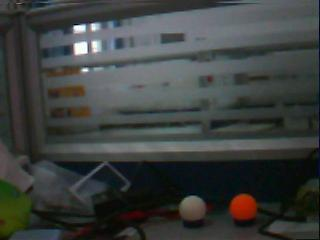oball: (230, 194, 257, 221)
